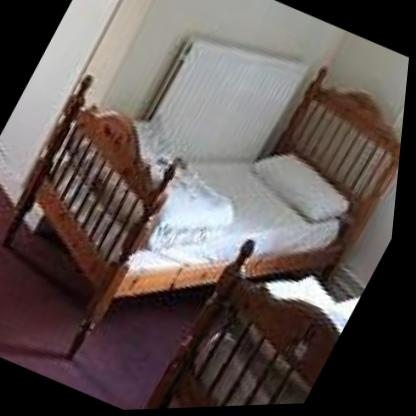Bed: (0, 0, 416, 416), (151, 220, 380, 411)
